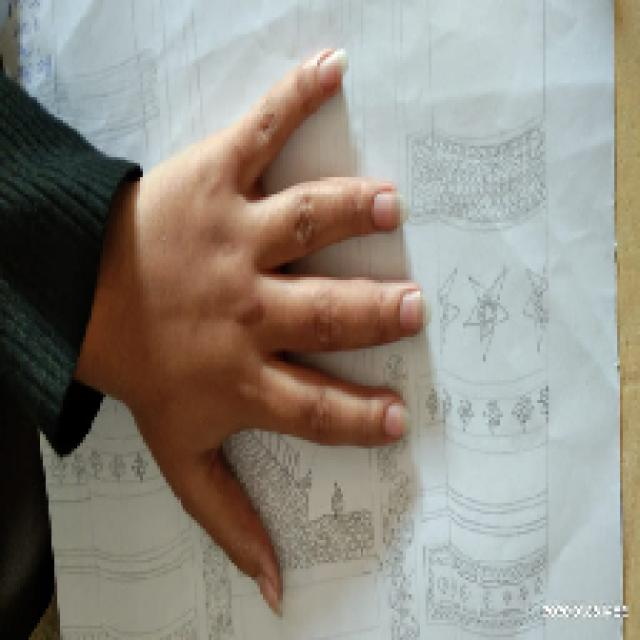Nail: (372, 192, 408, 231), (255, 574, 284, 620), (400, 290, 430, 331), (319, 49, 350, 85), (385, 404, 410, 438)
